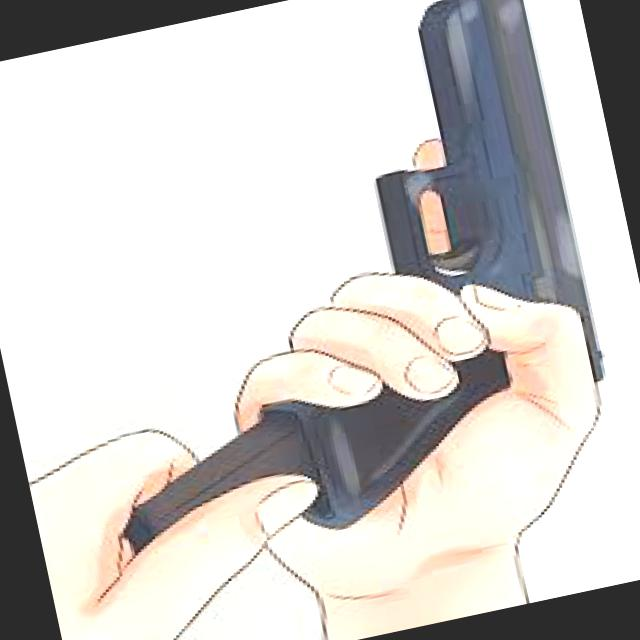handgun: (184, 0, 635, 540)
